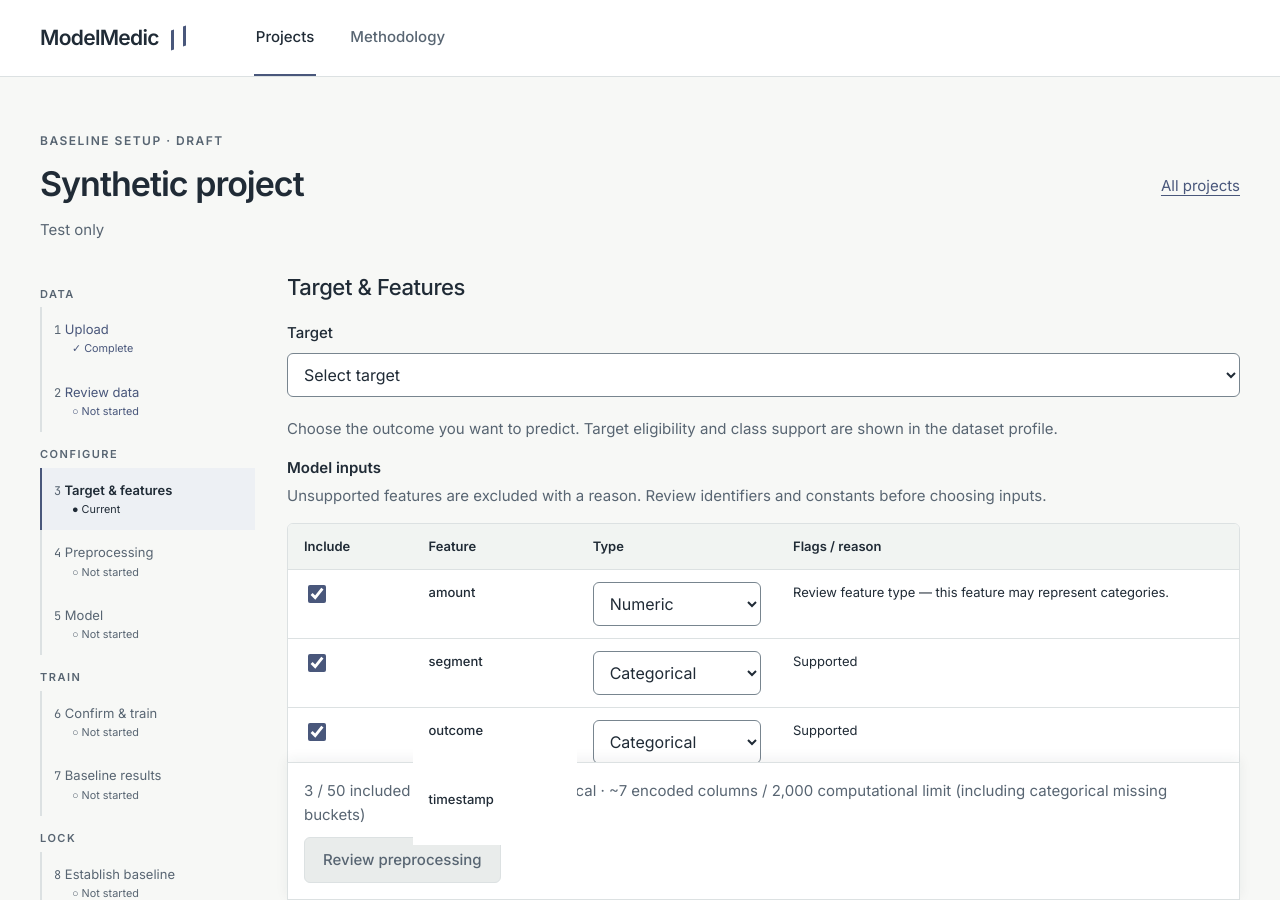
it: M1 baseline setup › displays backend configuration errors without advancing
This screenshot has width=1280, height=900.
Select "outcome" in the dropdown labelled "Target" at (764, 375), box [287,353,1240,397]
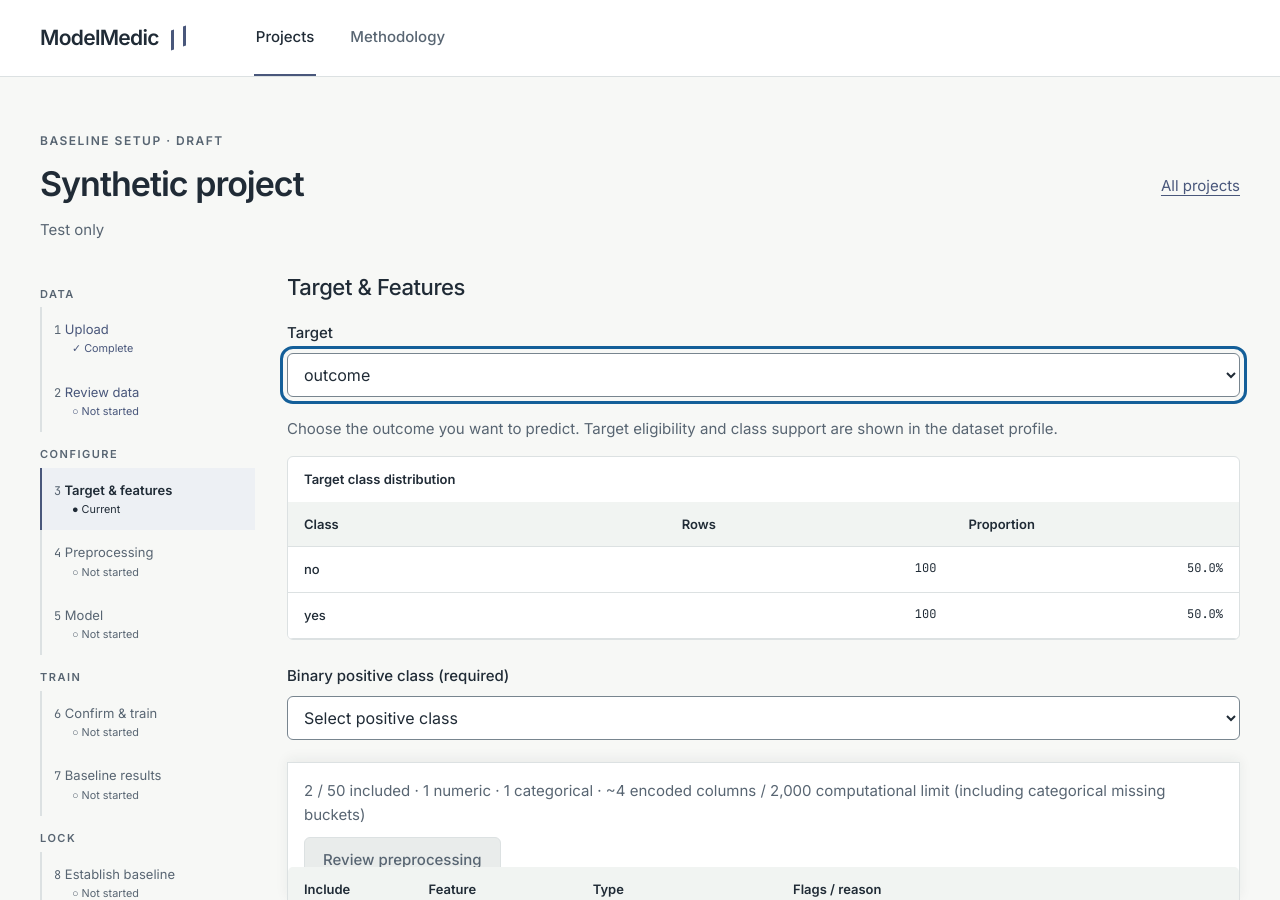
Select "yes" in the dropdown labelled "Binary positive class (required)" at (764, 718), box [287,696,1240,740]
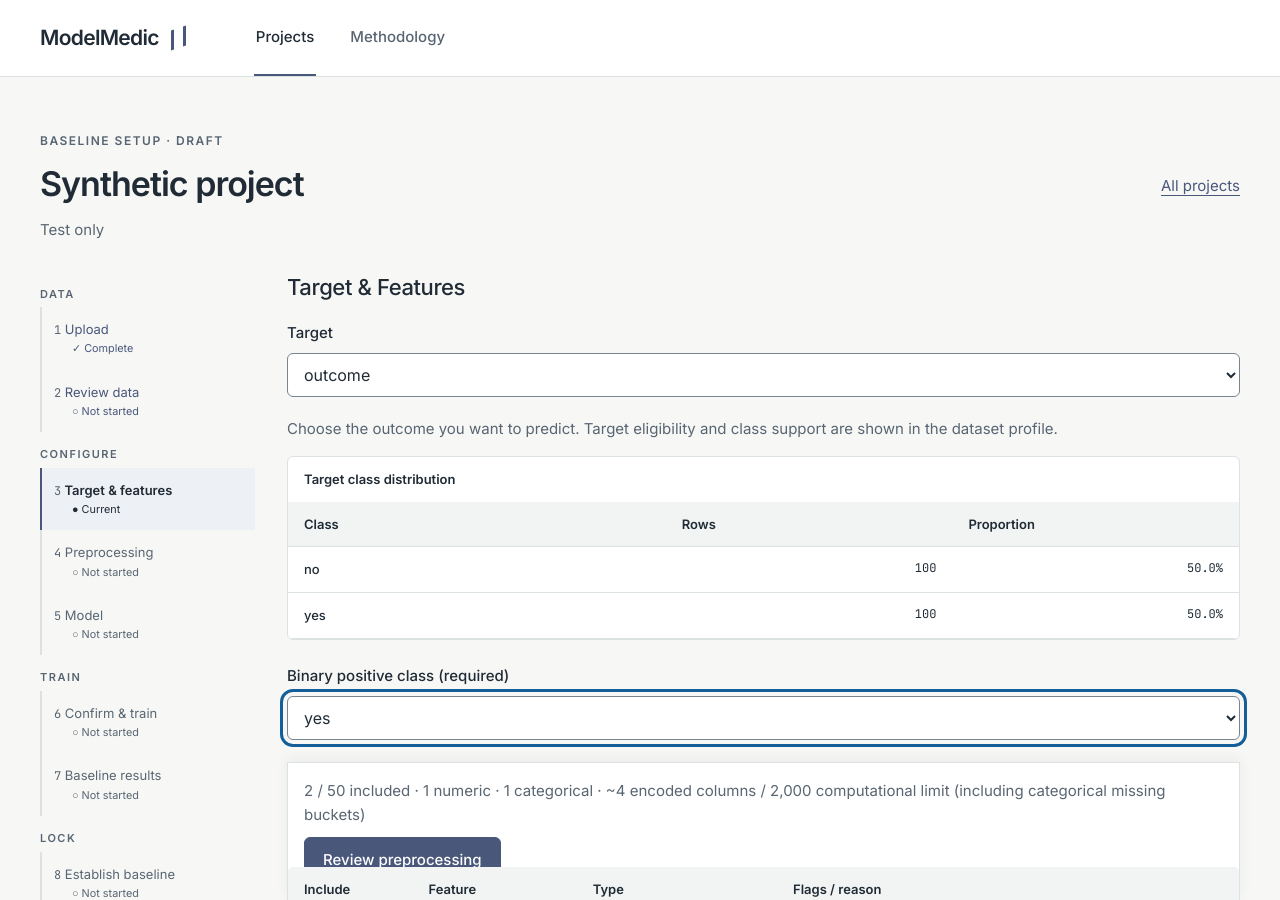
Click the button "Review preprocessing" at (402, 860), box [304,837,501,883]
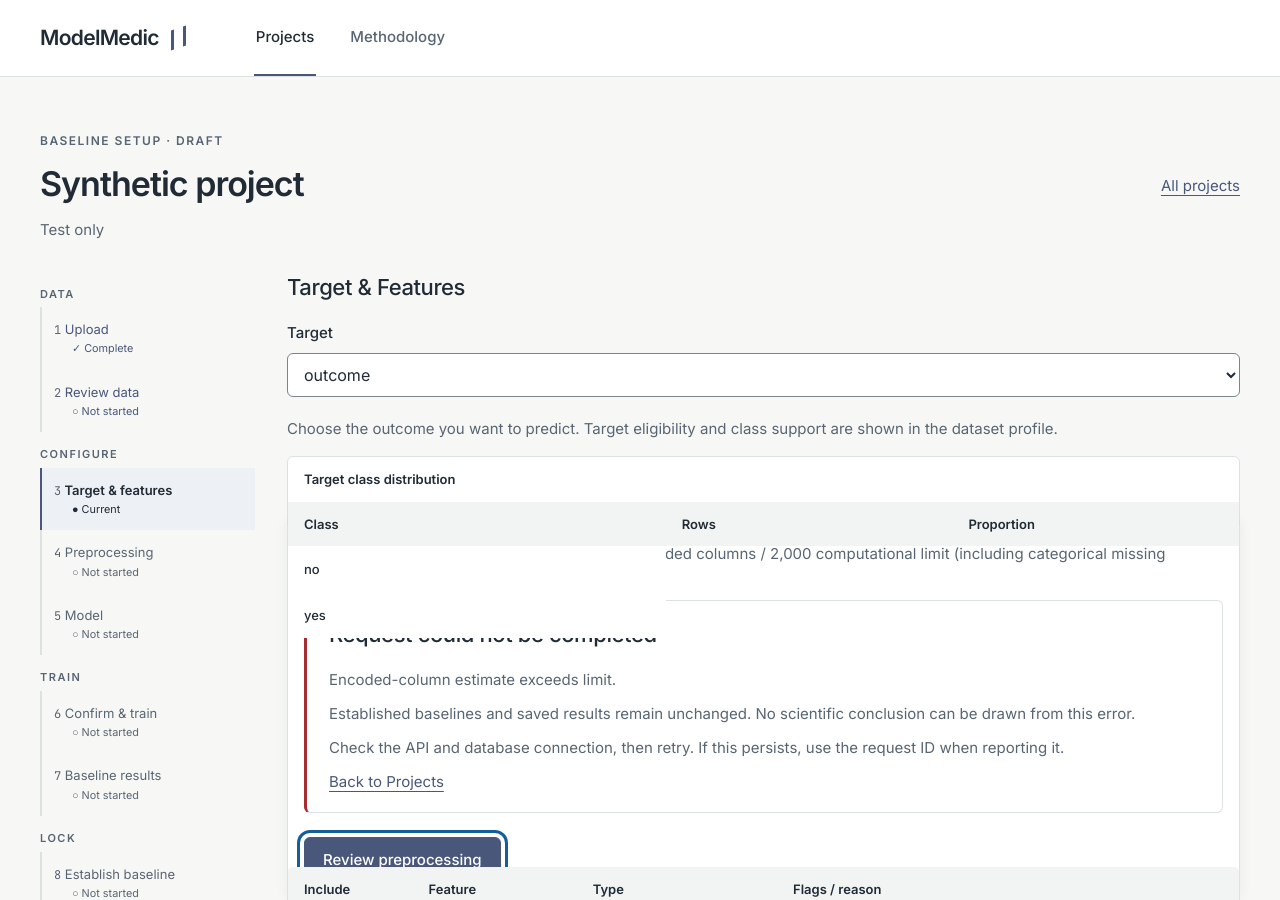
expect the heading "Target & Features" is shown: met, box [287,274,465,300]
expect the message shows "Encoded-column": met, box [329,670,616,689]
